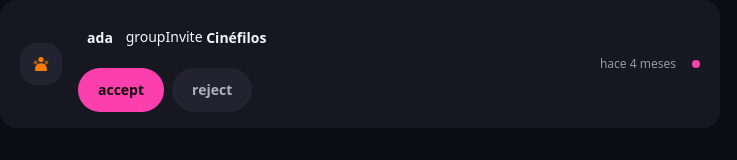
Scenario: NotificationsList — group_invite › tras aceptar oculta los botones de la invitación
The width and height of the screenshot is (737, 160).
Click the button "accept". click: coordinates (121, 90)
box: [78,68,164,112]
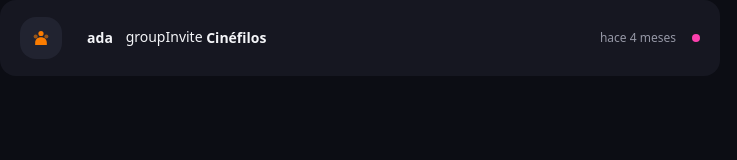
Check: the button "accept" is gone
